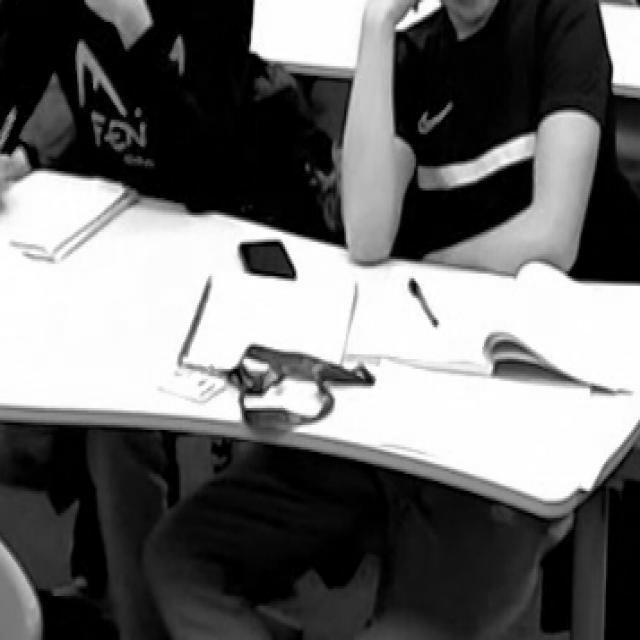fake: (236, 228, 298, 300)
